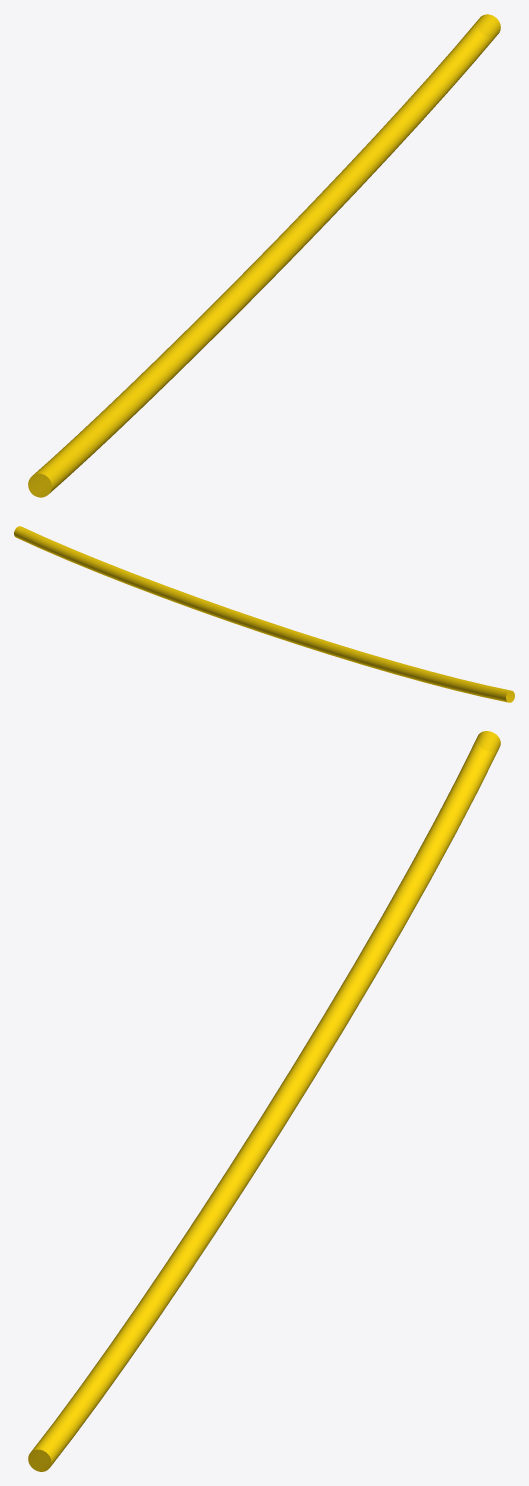
The model's file is Event_421556567_track_8.fbx.
3 renders of one model, top to bottom at view 1: azimuth 90°, elevation 25°; view 2: azimuth 150°, elevation 25°; view 3: azimuth 270°, elevation 25°, orthographic. The views are drawn at different scales.
Visible parts, largest first — view 1: Model; view 2: Model; view 3: Model.
Part boxes in pixels (x1,y1,x2,y2): Model: (28, 14, 500, 497); Model: (14, 526, 514, 702); Model: (28, 731, 500, 1471).
Size of the model in its own units: 2.26 by 0.2707 by 0.7625.
